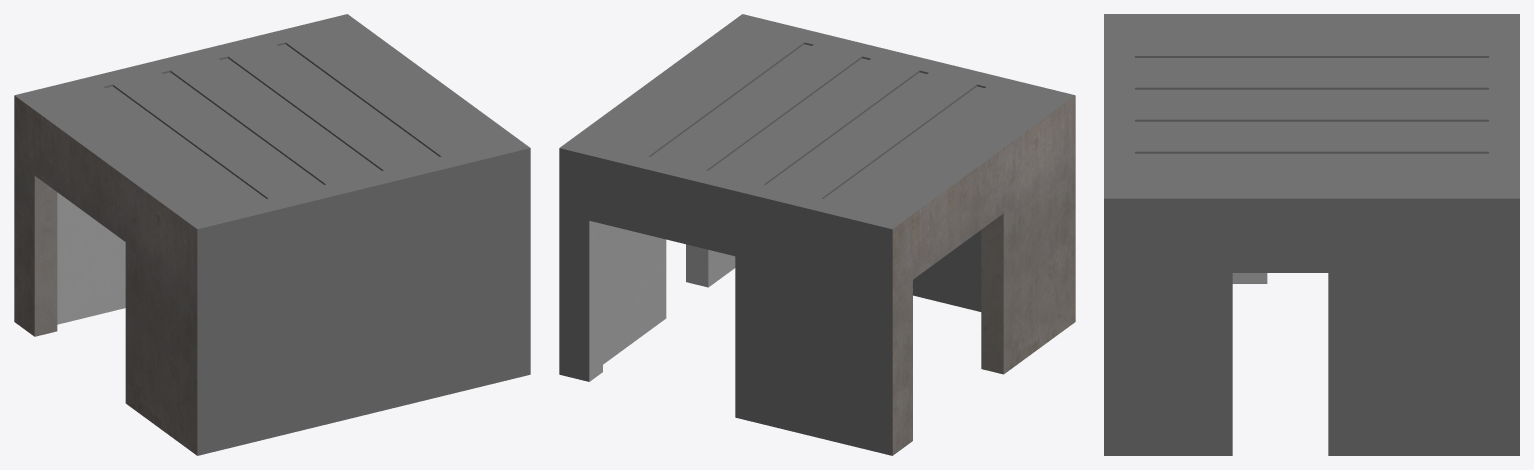
File: walls.gltf
The picture shows the model from 3 angles, left to right: view 1: azimuth 30°, elevation 25°; view 2: azimuth 150°, elevation 25°; view 3: azimuth 270°, elevation 25°; orthographic projection. The views are drawn at different scales.
Visible parts, largest first — view 1: walls; view 2: walls; view 3: walls.
Boxes of the visible parts, x1,y1,x2,y2 form: walls: [14, 14, 530, 455]; walls: [559, 14, 1075, 455]; walls: [1104, 14, 1519, 455].
Size of the model in its own units: 3.7 by 2.41 by 3.52.
1 material, 1 textured.
